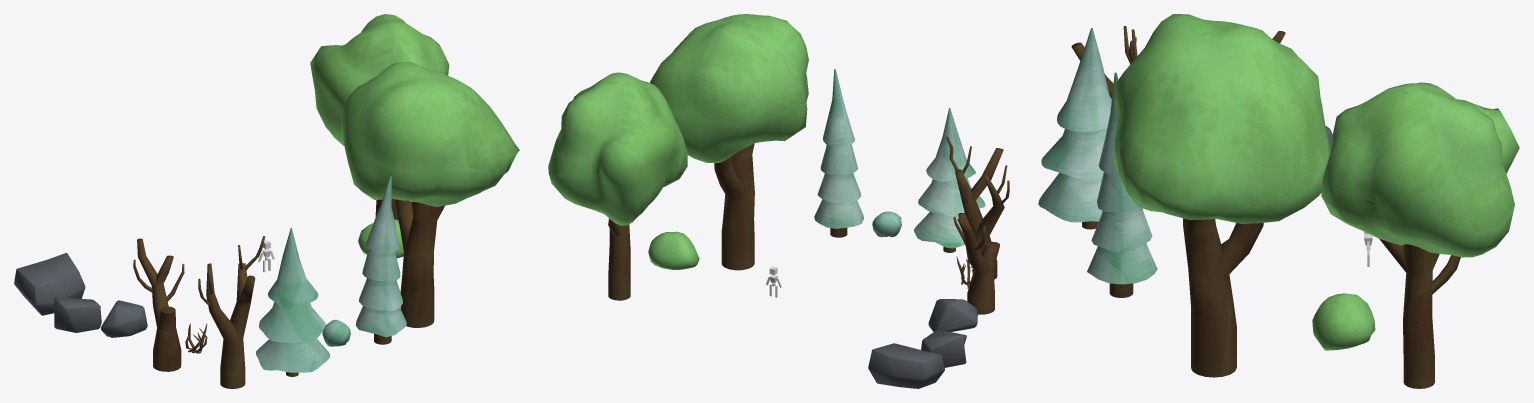
The model's file is Plants.fbx.
3 renders of one model, left to right at view 1: azimuth 30°, elevation 25°; view 2: azimuth 150°, elevation 25°; view 3: azimuth 270°, elevation 25°, orthographic. The views are drawn at different scales.
Parts seen in each view (by area): view 1: Tree2, Tree1, Fir1, Fir2, DryTree1, DryTree2, Stone3, Stone2, Stone1, SnowBush1, Bush1; view 2: Tree2, Tree1, Fir2, Fir1, Stone3, DryTree1, DryTree2, Bush1, Stone1, Stone2, SnowBush1; view 3: Tree2, Tree1, Fir1, Fir2, Bush1, DryTree1.
Boxes of the visible parts, x1=… form: Tree2: x1=341, y1=61, x2=519, y2=327; Tree1: x1=310, y1=14, x2=449, y2=219; Fir1: x1=256, y1=228, x2=330, y2=376; Fir2: x1=356, y1=175, x2=406, y2=344; DryTree1: x1=198, y1=236, x2=265, y2=388; DryTree2: x1=133, y1=238, x2=184, y2=371; Stone3: x1=14, y1=253, x2=85, y2=315; Stone2: x1=54, y1=297, x2=101, y2=332; Stone1: x1=101, y1=300, x2=147, y2=337; SnowBush1: x1=322, y1=319, x2=350, y2=346; Bush1: x1=358, y1=219, x2=403, y2=258; Tree2: x1=650, y1=14, x2=808, y2=270; Tree1: x1=548, y1=72, x2=687, y2=300; Fir2: x1=814, y1=69, x2=863, y2=237; Fir1: x1=914, y1=108, x2=985, y2=252; Stone3: x1=868, y1=343, x2=944, y2=388; DryTree1: x1=946, y1=136, x2=1009, y2=279; DryTree2: x1=953, y1=213, x2=999, y2=314; Bush1: x1=648, y1=231, x2=699, y2=269; Stone1: x1=928, y1=299, x2=977, y2=331; Stone2: x1=921, y1=329, x2=966, y2=367; SnowBush1: x1=872, y1=211, x2=901, y2=237; Tree2: x1=1113, y1=14, x2=1330, y2=377; Tree1: x1=1321, y1=82, x2=1519, y2=388; Fir1: x1=1038, y1=28, x2=1111, y2=229; Fir2: x1=1087, y1=72, x2=1157, y2=297; Bush1: x1=1312, y1=293, x2=1375, y2=350; DryTree1: x1=1071, y1=26, x2=1137, y2=98.
Bounding box in the file's own units: 2699 × 1621 × 2094.
Materials: 1 (1 with a texture image).
